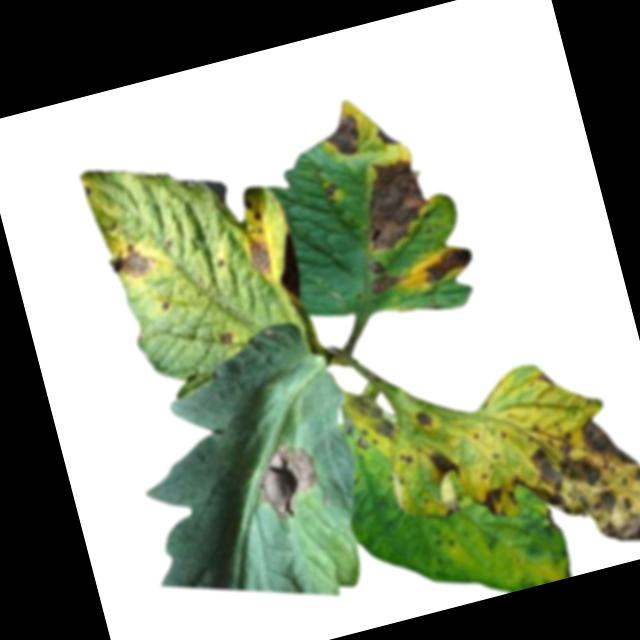Early_blight: (492, 403, 640, 579), (349, 152, 438, 256), (246, 433, 331, 528), (345, 387, 402, 454), (418, 242, 481, 290), (318, 108, 365, 166), (106, 238, 162, 285), (363, 252, 402, 296), (244, 232, 278, 280), (427, 441, 464, 484), (473, 481, 508, 522), (374, 121, 404, 150), (440, 494, 465, 520), (242, 196, 266, 223), (412, 407, 436, 434), (322, 180, 346, 206), (398, 450, 418, 471), (218, 328, 238, 348)
